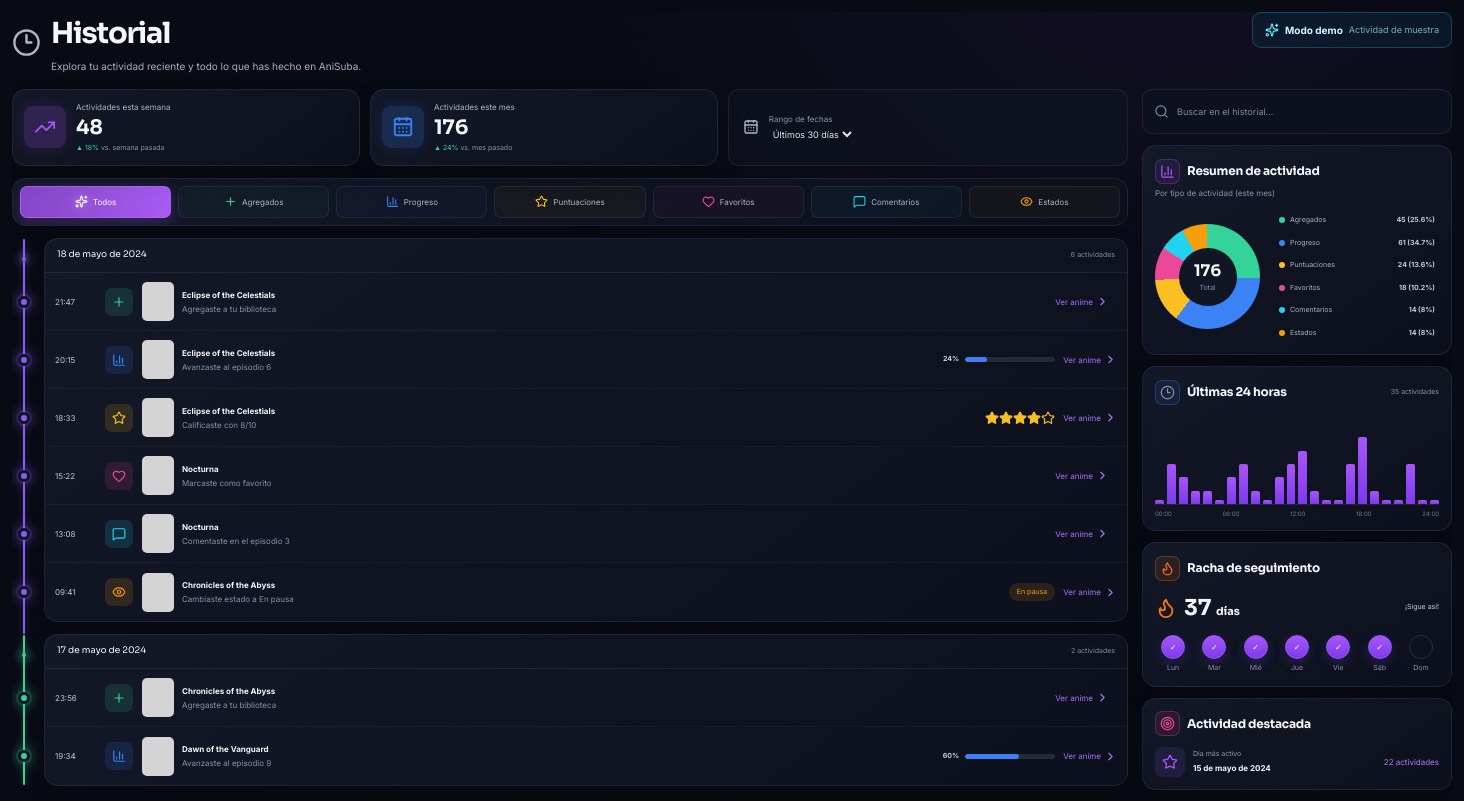
Test case: HistoryPage › filtra por tipo y búsqueda
The image size is (1464, 801).
Click the button "Favoritos" at (728, 202), box [653,186,804,218]
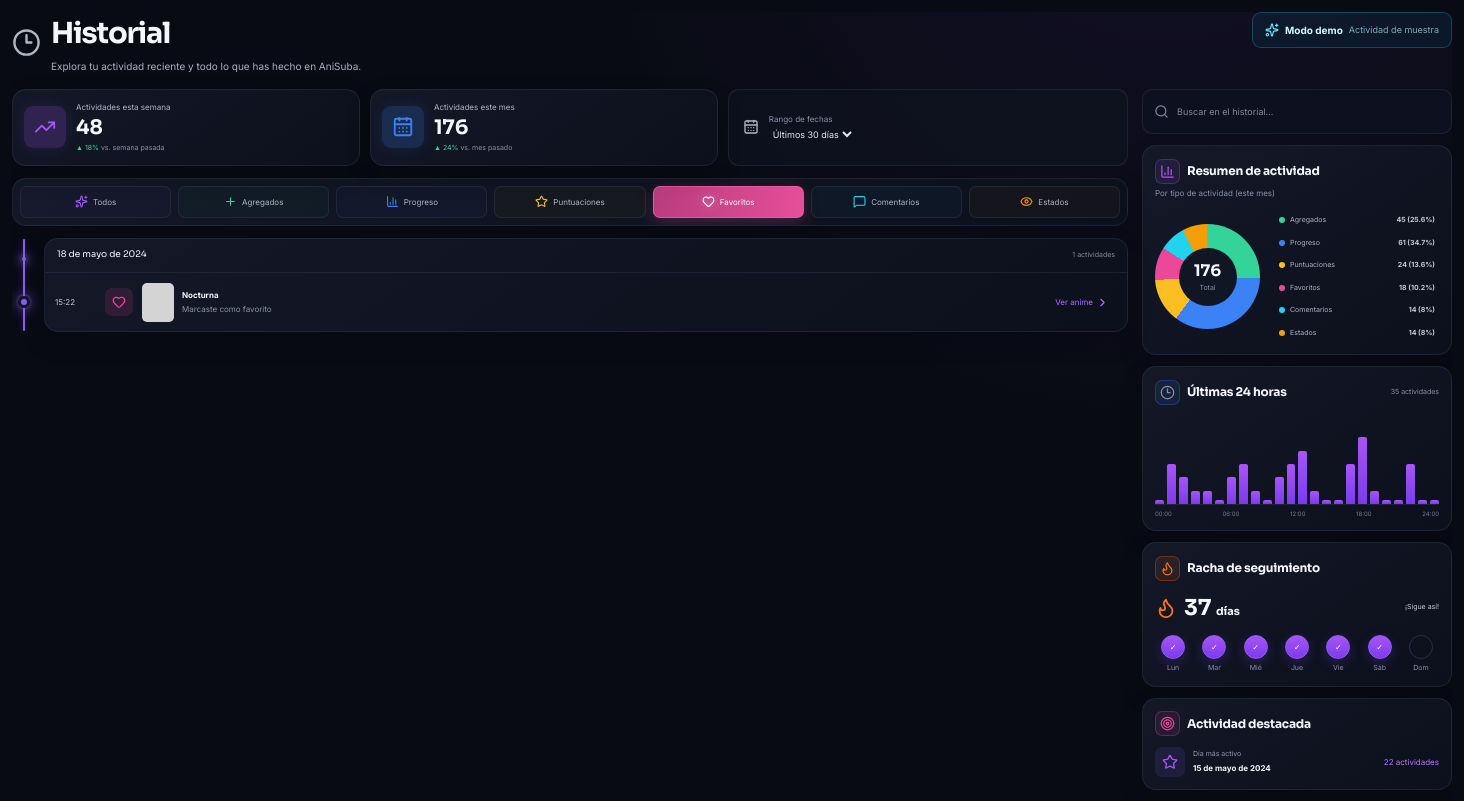
Expected: the text "Marcaste como favorito" is shown, [182,304,272,314]
Now the text "Agregaste a tu biblioteca" is gone
Type "sin coincidencias" into the field labelled "Buscar en el historial" at (1308, 112), box [1177,105,1440,118]
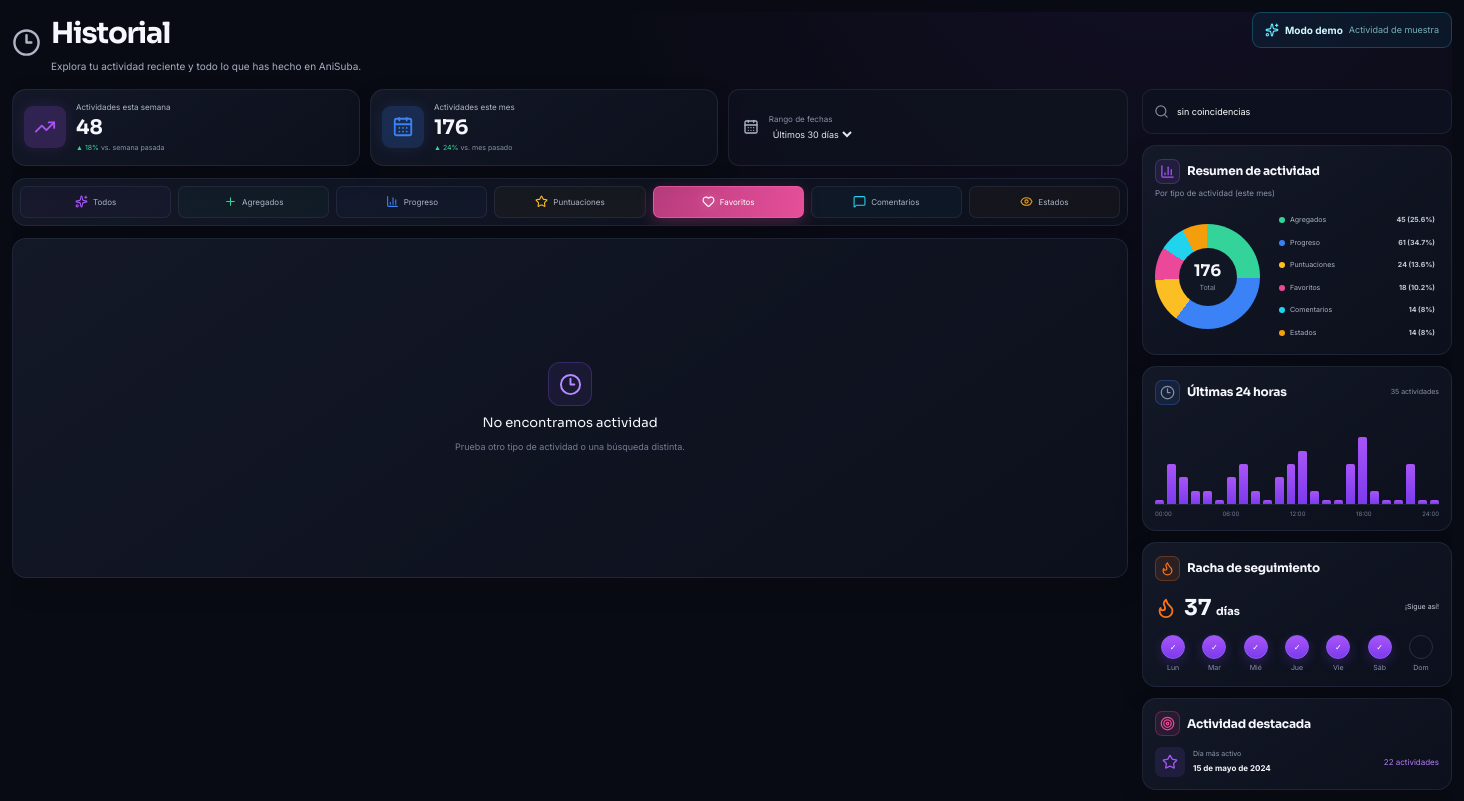
Now the heading "No encontramos actividad" is shown, box [482,413,658,432]
